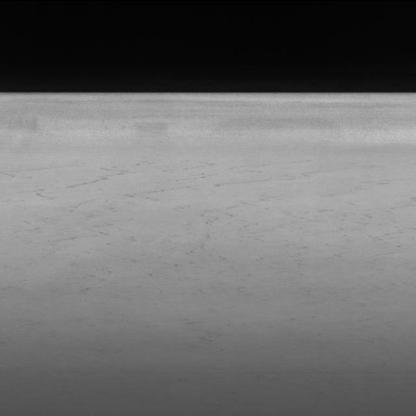silk_spot: (19, 153, 364, 289)
